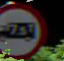Heavy Vehicles: (0, 1, 47, 59)
